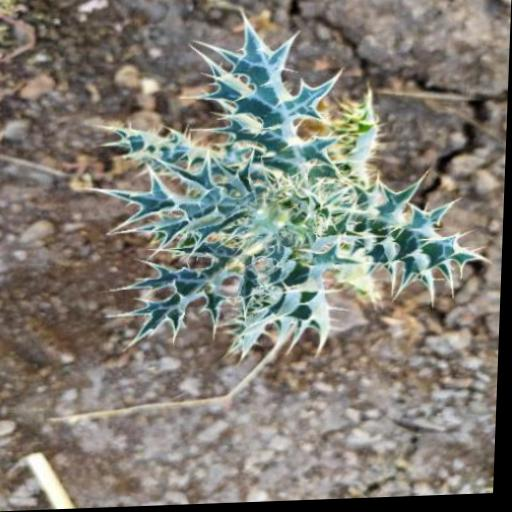weed: (83, 16, 496, 390)
